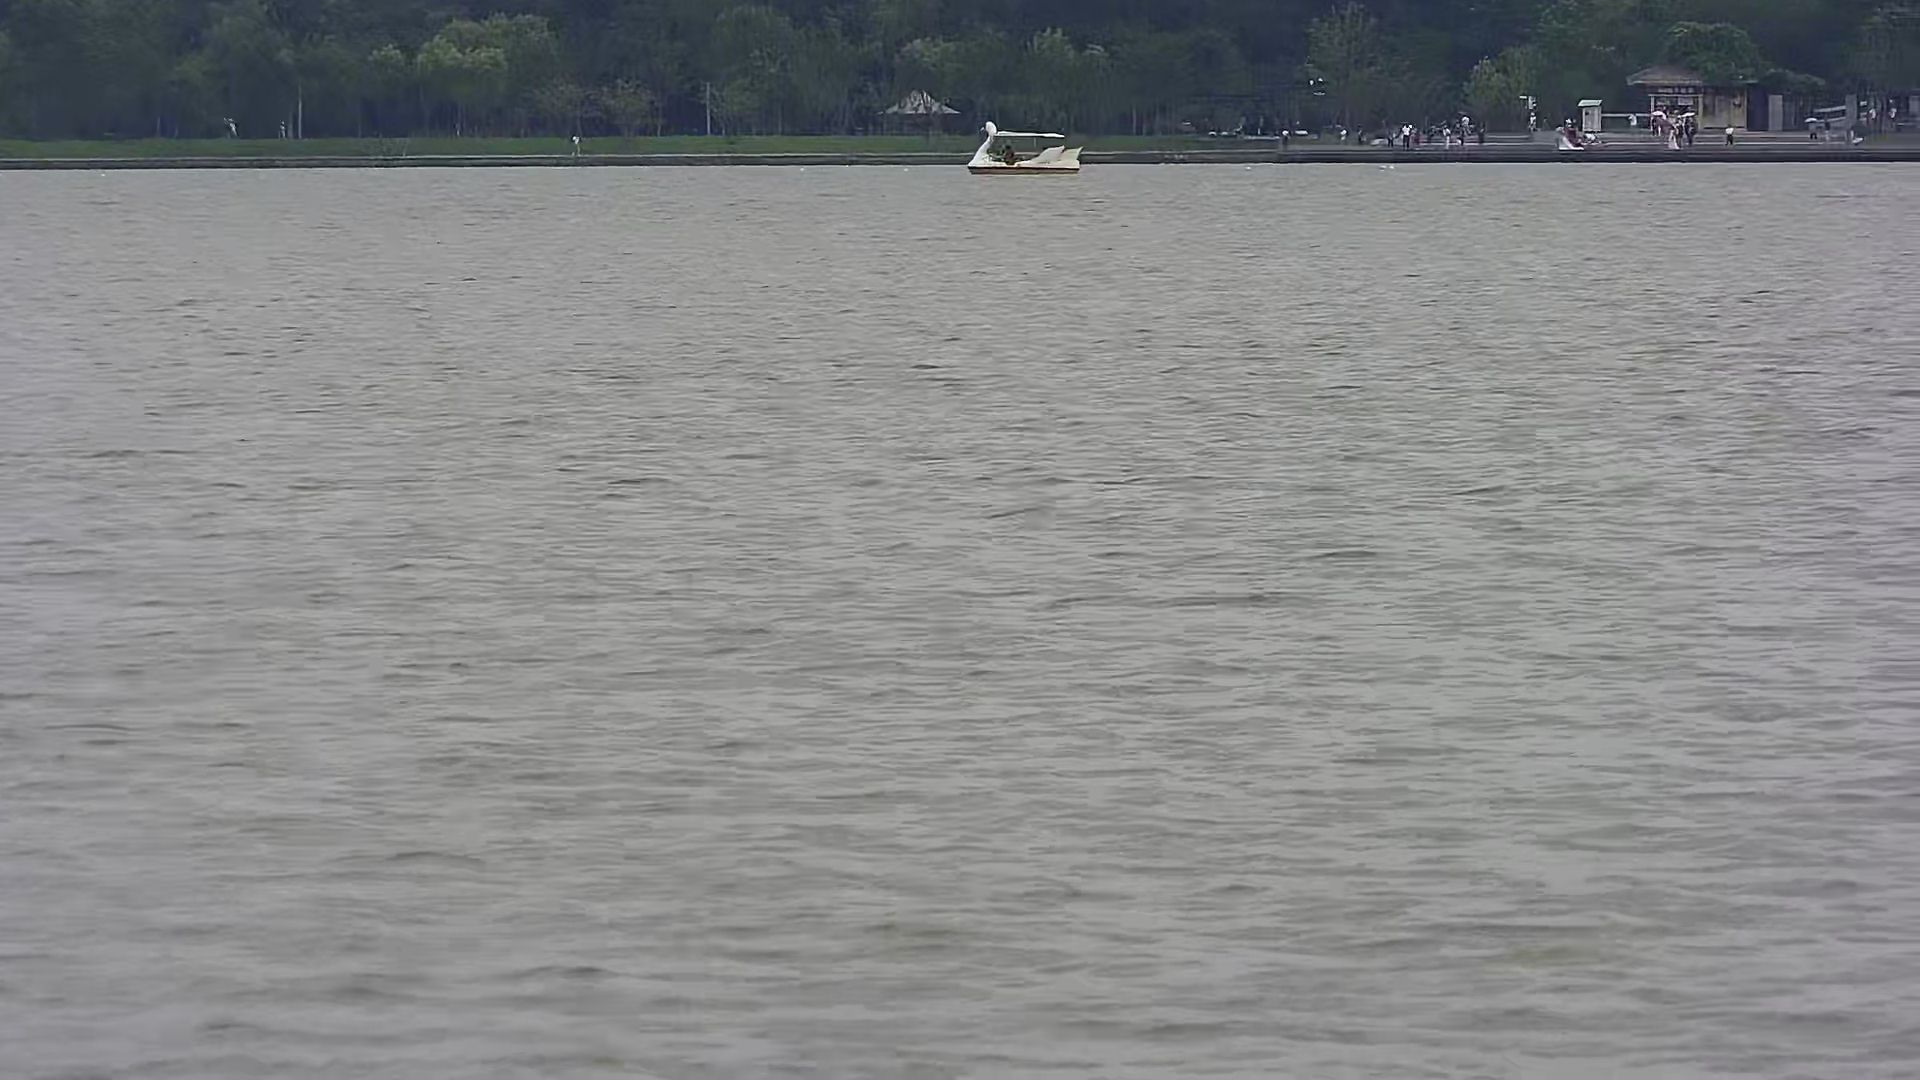boat: (953, 111, 1095, 183)
